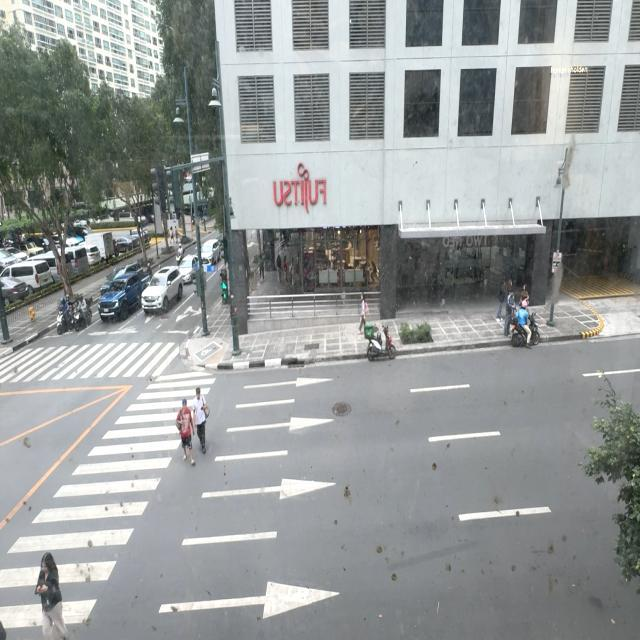jaywalking: (176, 398, 196, 464), (190, 386, 208, 454)
